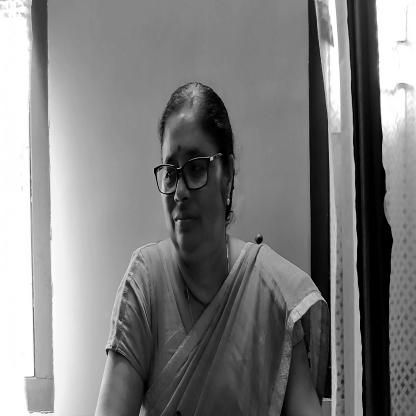Normal: (157, 97, 231, 255)
